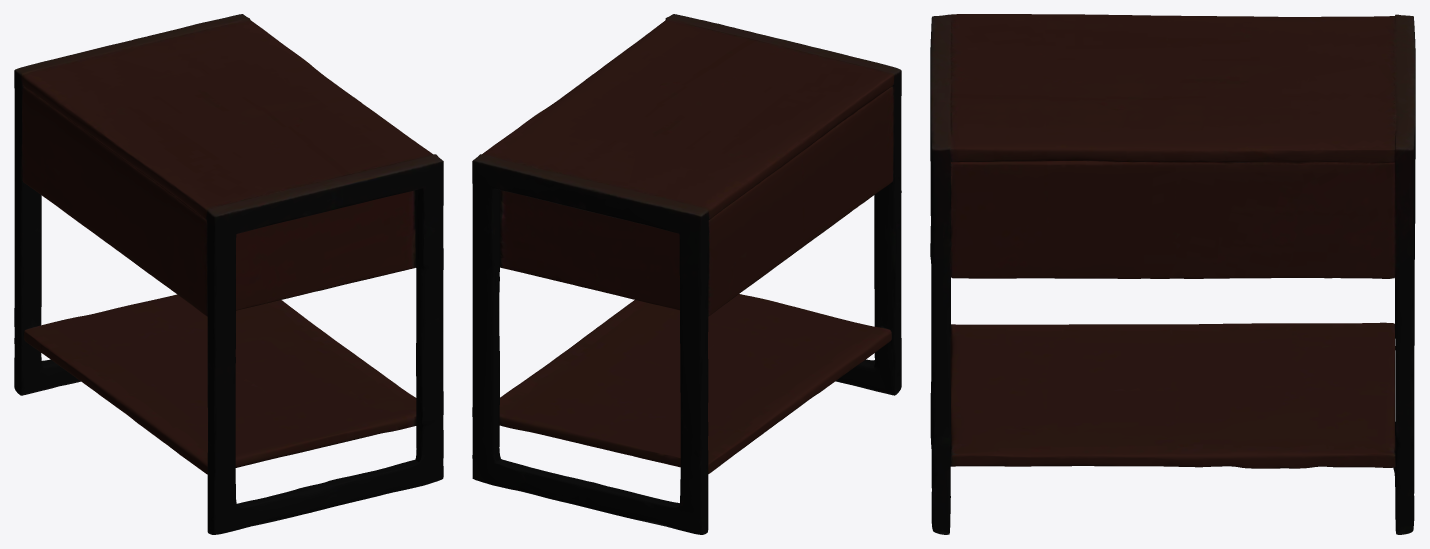
3 renders of one model, left to right at view 1: azimuth 30°, elevation 25°; view 2: azimuth 150°, elevation 25°; view 3: azimuth 270°, elevation 25°, orthographic. The views are drawn at different scales.
Parts seen in each view (by area): view 1: tripo_node_3a831efa-3548-40b4-a084-d3d5c76c395d; view 2: tripo_node_3a831efa-3548-40b4-a084-d3d5c76c395d; view 3: tripo_node_3a831efa-3548-40b4-a084-d3d5c76c395d.
Part boxes in pixels (box(x1,y1,x2,y2)): tripo_node_3a831efa-3548-40b4-a084-d3d5c76c395d: box(14, 14, 443, 534); tripo_node_3a831efa-3548-40b4-a084-d3d5c76c395d: box(472, 14, 901, 534); tripo_node_3a831efa-3548-40b4-a084-d3d5c76c395d: box(930, 14, 1415, 534).
Bounding box in the file's own units: 0.4839 × 0.65 × 0.7367.
1 material, 1 textured.
